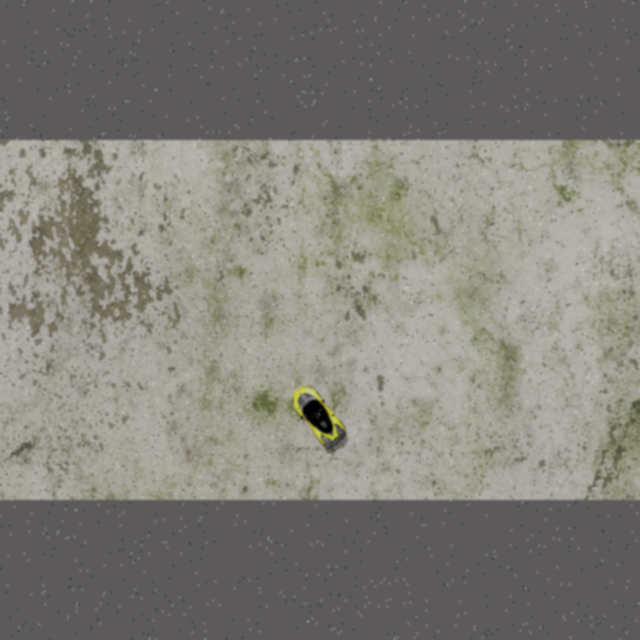car: (284, 380, 350, 453)
